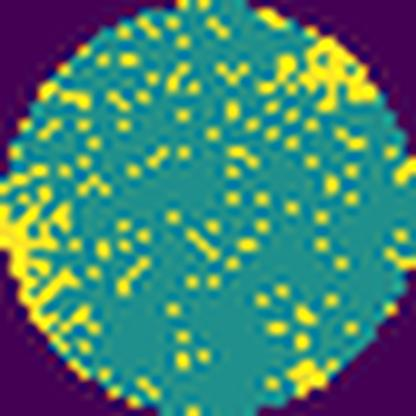Edge-Loc: (0, 180, 107, 371), (296, 33, 381, 113)
